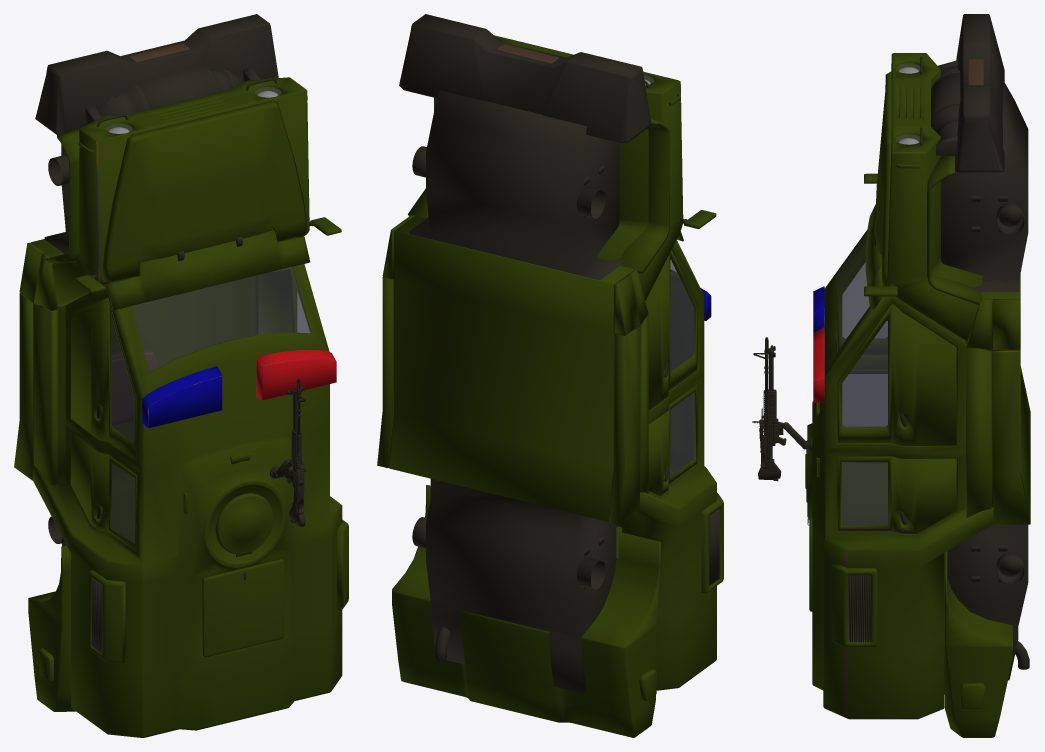
File: orb_jeep.obj
3 views of the same model, side by side, from view 1: azimuth 30°, elevation 25°; view 2: azimuth 150°, elevation 25°; view 3: azimuth 270°, elevation 25° (orthographic). The views are drawn at different scales.
Visible parts, largest first — view 1: orb_jeep.001; view 2: orb_jeep.001; view 3: orb_jeep.001.
Part boxes in pixels (x1,y1,x2,y2): orb_jeep.001: (14, 14, 348, 737); orb_jeep.001: (377, 14, 723, 737); orb_jeep.001: (752, 14, 1030, 737).
Size of the model in its own units: 1.96 by 4.75 by 1.93.
Materials: 6 (6 with a texture image).
